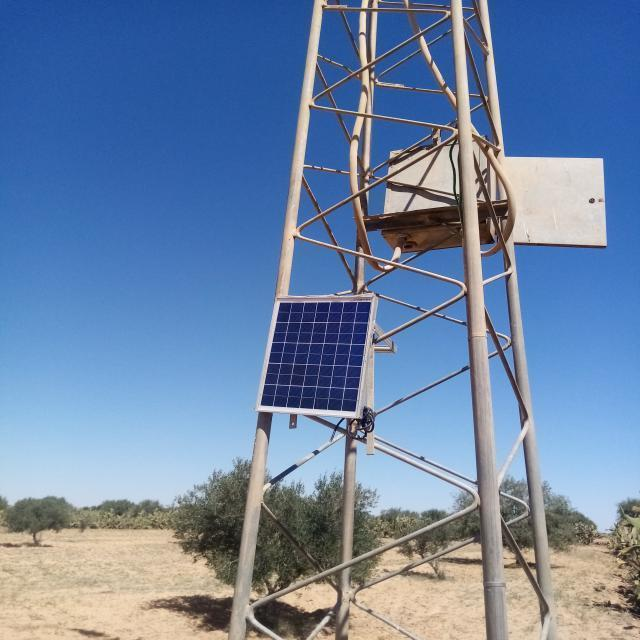Normal Solar Panel: (256, 297, 374, 418)
